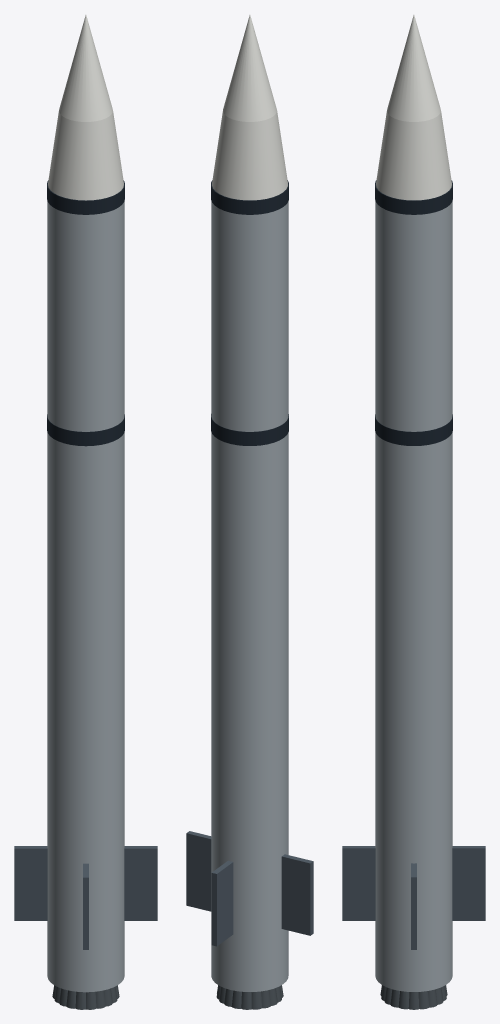
The model's file is starship.glb.
The picture shows the model from 3 angles, left to right: view 1: azimuth 90°, elevation 25°; view 2: azimuth 150°, elevation 25°; view 3: azimuth 270°, elevation 25°; orthographic projection.
Visible parts, largest first — view 1: body-0, body-1, fairing, nose, fin-1, fin-3, interstage-1, interstage-0, fin-2; view 2: body-0, body-1, fairing, nose, fin-2, fin-0, fin-3, interstage-1, interstage-0; view 3: body-0, body-1, fairing, nose, fin-1, fin-3, interstage-1, interstage-0, fin-0.
Boxes of the visible parts, <box> form: body-0: <box>47,432,124,992</box>; body-1: <box>47,201,124,431</box>; fairing: <box>48,111,123,200</box>; nose: <box>59,15,112,121</box>; fin-1: <box>124,846,157,920</box>; fin-3: <box>14,846,47,920</box>; interstage-1: <box>47,180,124,214</box>; interstage-0: <box>47,414,124,446</box>; fin-2: <box>83,863,88,949</box>; body-0: <box>211,432,288,991</box>; body-1: <box>211,201,288,431</box>; fairing: <box>212,111,287,200</box>; nose: <box>223,15,276,121</box>; fin-2: <box>281,854,313,935</box>; fin-0: <box>186,831,211,911</box>; fin-3: <box>211,860,233,946</box>; interstage-1: <box>211,180,288,214</box>; interstage-0: <box>211,414,288,445</box>; body-0: <box>375,432,452,991</box>; body-1: <box>375,201,452,431</box>; fairing: <box>376,111,451,200</box>; nose: <box>387,15,440,121</box>; fin-1: <box>342,846,375,920</box>; fin-3: <box>452,846,485,920</box>; interstage-1: <box>375,180,452,214</box>; interstage-0: <box>375,414,452,445</box>; fin-0: <box>411,863,416,949</box>.
Bounding box in the file's own units: 16.65 × 126 × 16.65.
